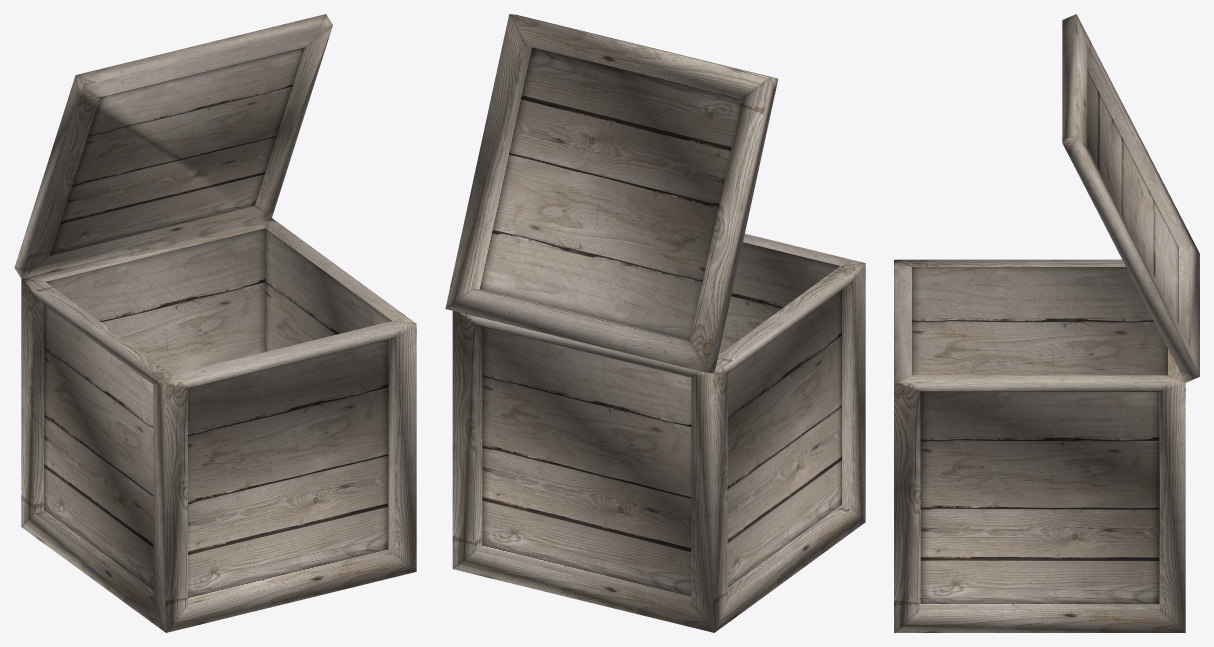
Rendered from UseCrate3@Close.fbx.
The picture shows the model from 3 angles, left to right: view 1: azimuth 30°, elevation 25°; view 2: azimuth 150°, elevation 25°; view 3: azimuth 270°, elevation 25°; orthographic projection. The views are drawn at different scales.
Parts seen in each view (by area): view 1: Body, Cap; view 2: Body, Cap; view 3: Body, Cap.
Boxes of the visible parts, x1,y1,x2,y2 form: Body: [21, 218, 416, 632]; Cap: [14, 14, 332, 278]; Body: [452, 233, 865, 632]; Cap: [445, 14, 778, 373]; Body: [894, 259, 1185, 632]; Cap: [1062, 14, 1199, 382].
Size of the model in its own units: 12.5 by 23.44 by 13.1.
1 material, 1 textured.
